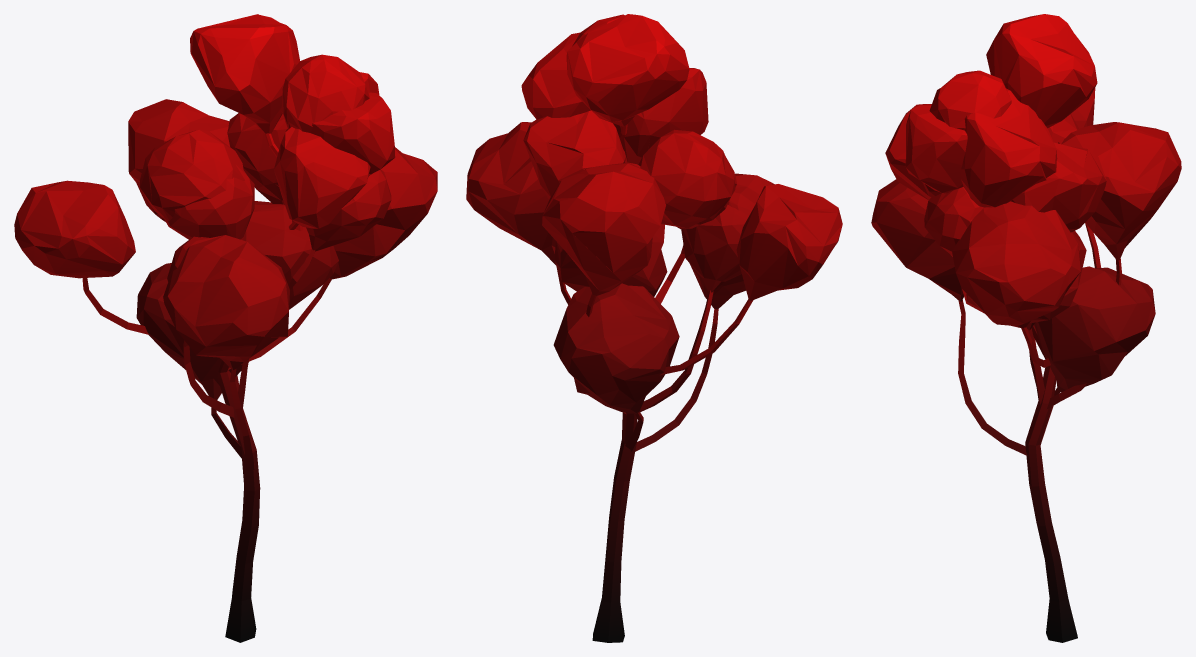
Rendered from TreeEuca08.fbx.
3 views of the same model, side by side, from view 1: azimuth 30°, elevation 25°; view 2: azimuth 150°, elevation 25°; view 3: azimuth 270°, elevation 25° (orthographic). The views are drawn at different scales.
Parts seen in each view (by area): view 1: TreeEuca08_LOD0; view 2: TreeEuca08_LOD0; view 3: TreeEuca08_LOD0.
Part boxes in pixels (x1,y1,x2,y2): TreeEuca08_LOD0: (14,14,437,642); TreeEuca08_LOD0: (466,14,842,642); TreeEuca08_LOD0: (871,14,1181,642).
Size of what is drawn, in the model's own units: 445 by 691 by 319.
